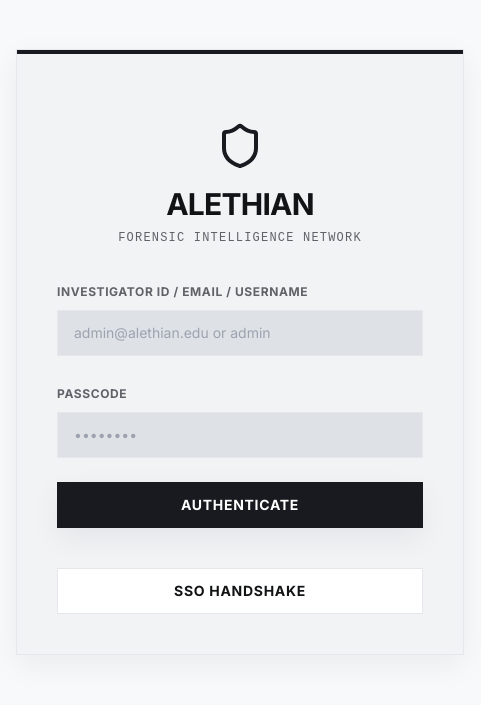
Test: Login Component › shows error message on failure
This screenshot has width=481, height=705.
// Fill in required fields so the form actually submits
Step 1. Type "test@edu" into the field with placeholder "admin@alethian.edu or admin" → (240, 333), box [57,310,423,356]
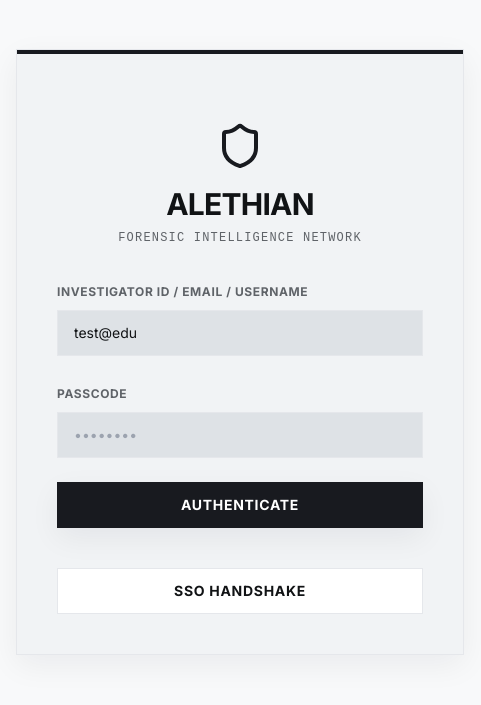
Step 2. Type "password" into the password field with placeholder "••••••••" → (240, 435), box [57,412,423,458]
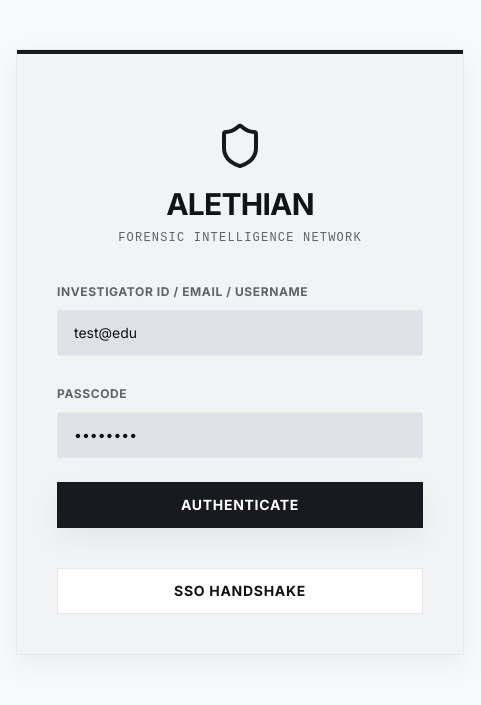
Step 3. Click the button "Authenticate" → (240, 505), box [57,482,423,528]
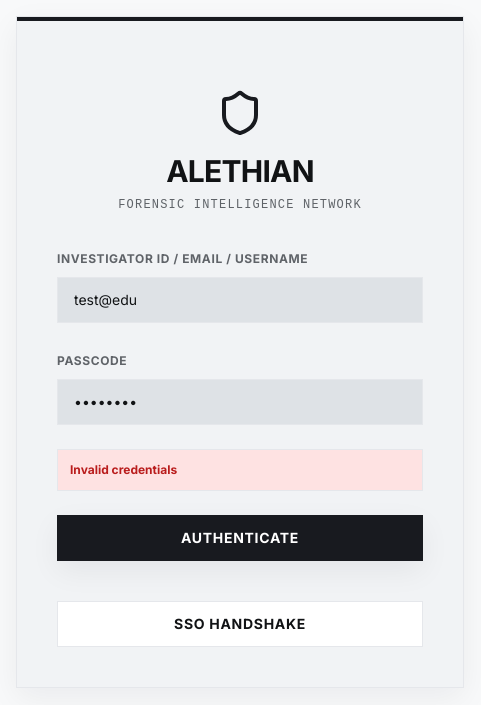
Now the text "Invalid credentials" is shown, box [57,449,423,491]
